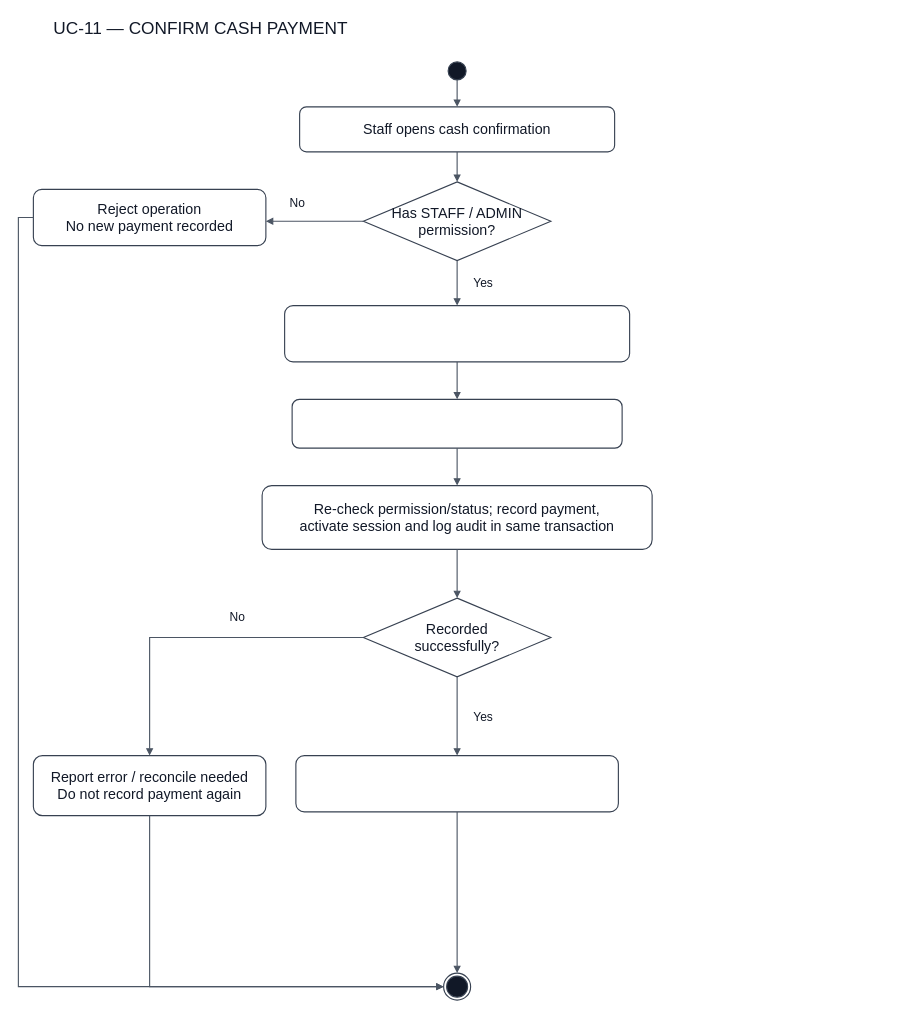
Some shapes in this 913 by 1013 pixel diagram are drawn without their labels. The centre of each missing label's shape, as x and y in pixels:
Collect cash, verify session and confirm: pixel 456 423
Enter session_id / create pending session; system displays info and amount: pixel 457 333
Generate short code with TTL; staff hands code to visitor: pixel 457 783
